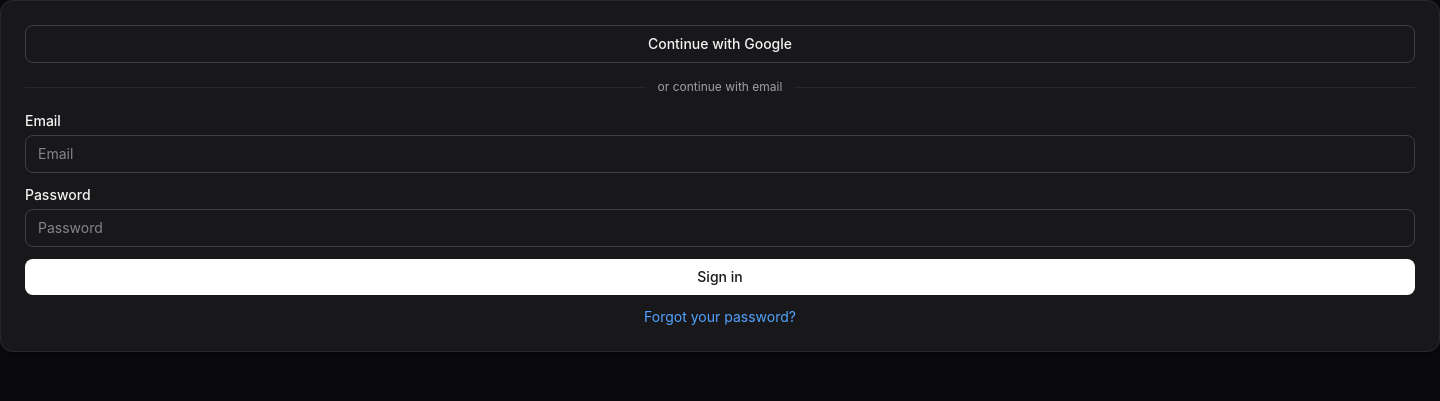
Scenario: A-FE-05: distinct login failure messages › a 429 login says too many attempts, not invalid credentials
Type "a@example.com" into the field labelled "Email".
click(720, 154); type("a@example.com")  # box 25,135 -> 1415,173
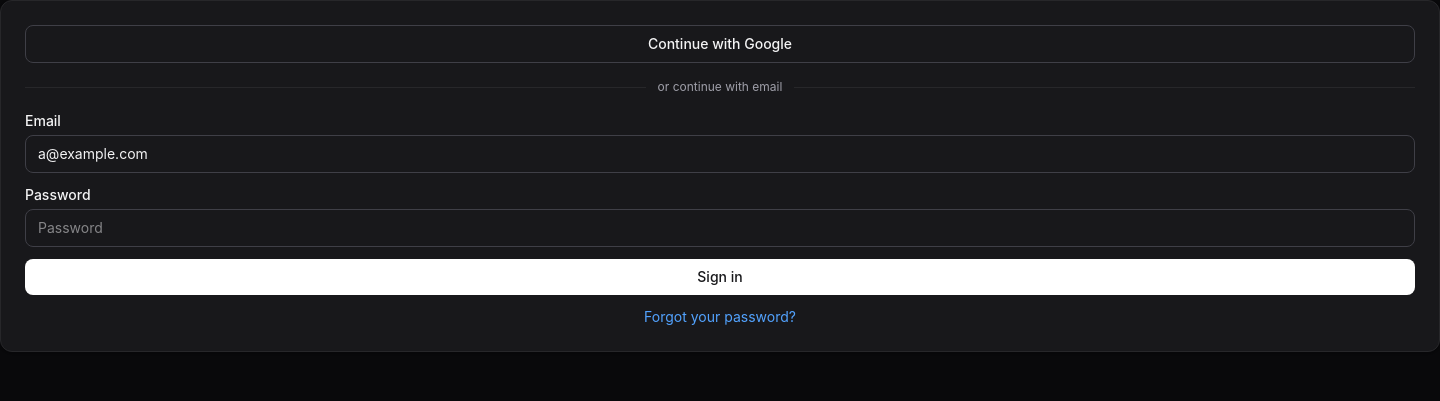
Type "pw1234567890" into the password field labelled "Password".
click(720, 228); type("pw1234567890")  # box 25,209 -> 1415,247
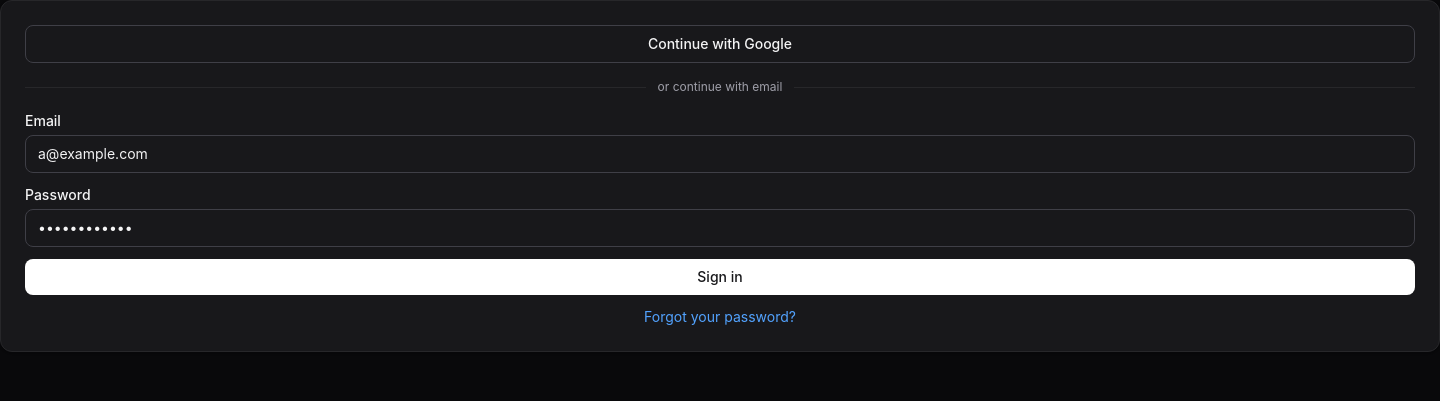
Click the button "Sign in".
click(720, 277)  # box 25,259 -> 1415,295
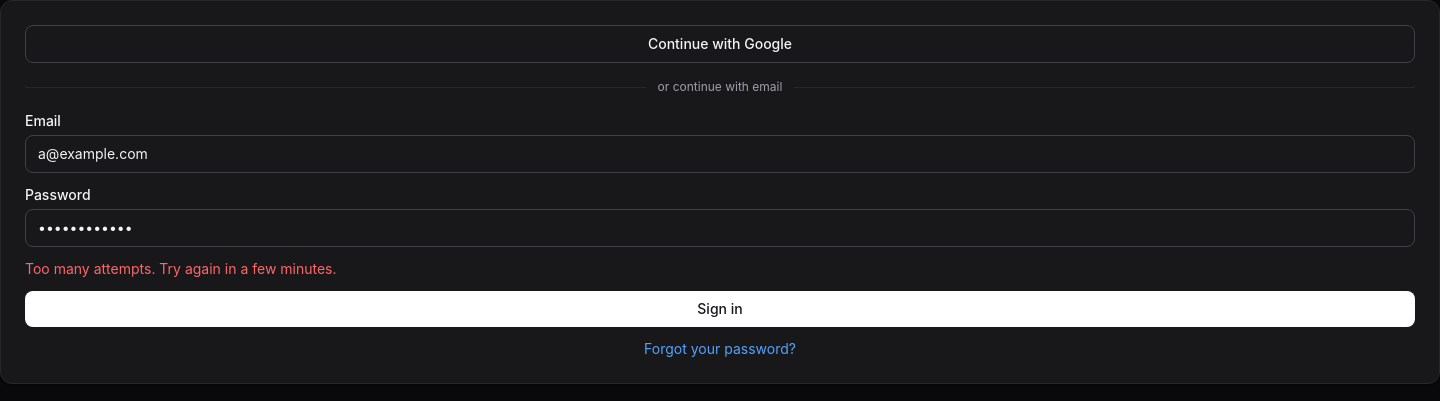
Check: the message reads "Too many attempts. Try again in a few minutes.", box 25,260 -> 336,277
